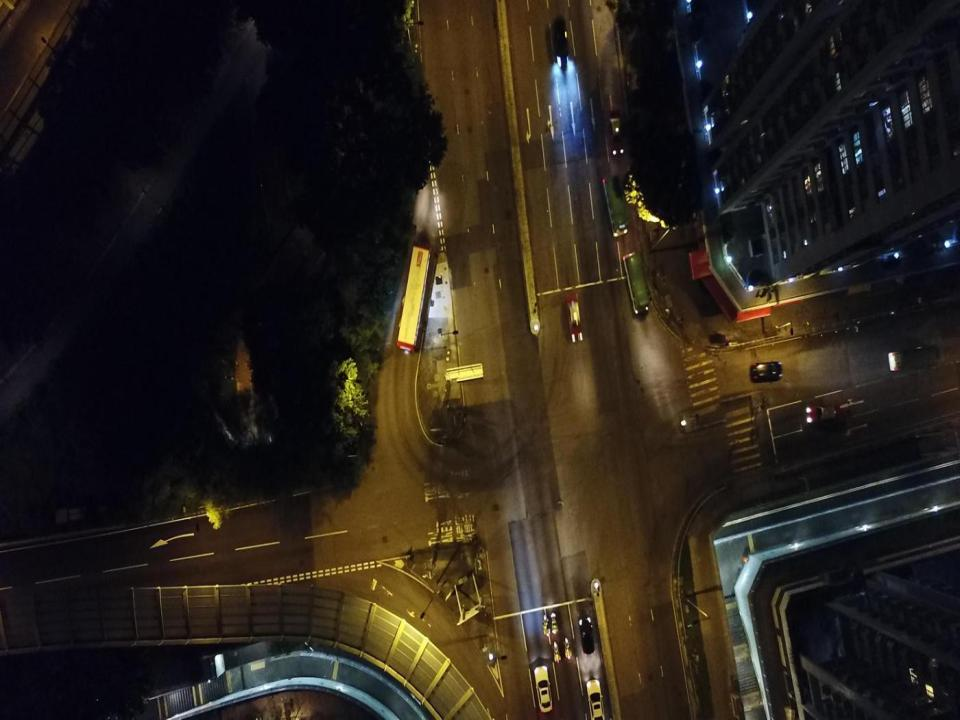bus: (397, 242, 438, 354), (601, 173, 629, 238), (622, 250, 650, 314), (887, 342, 939, 373)
car: (564, 291, 584, 342), (534, 664, 554, 713), (805, 401, 841, 426), (607, 109, 625, 156), (586, 679, 606, 719), (553, 16, 570, 58), (750, 360, 784, 381), (578, 616, 596, 655)
